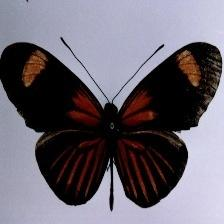butterfly: (0, 43, 223, 208)
